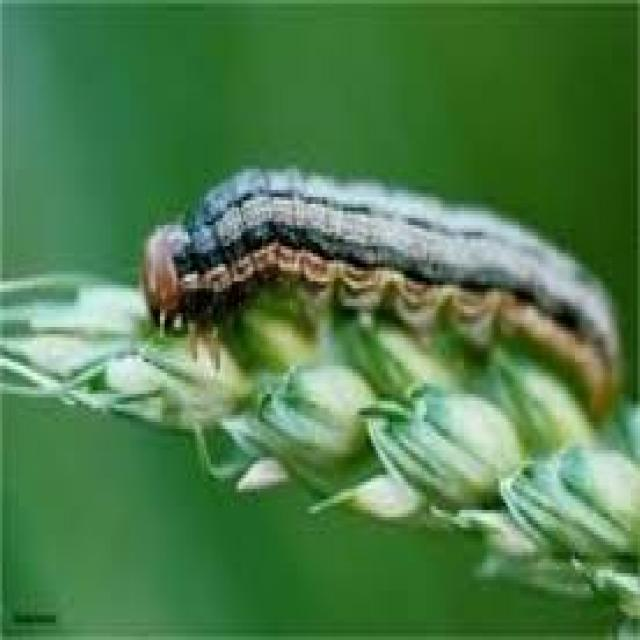armyworm: (147, 161, 631, 421)
